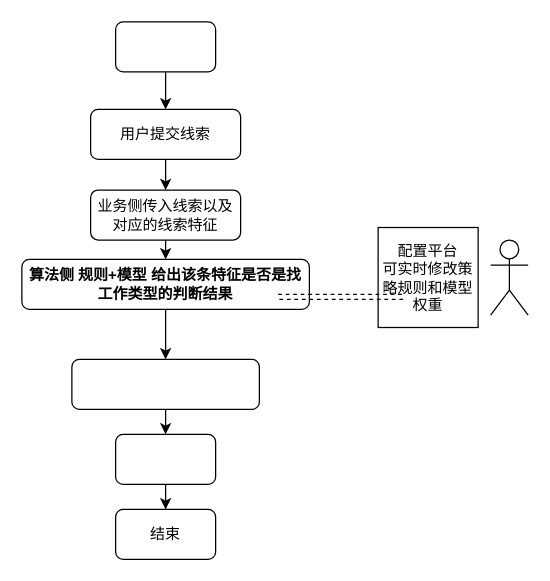
Some shapes in this 550 by 581 pixel diagram are drawn without their labels. The centre of each missing label's shape, as x and y in pixels:
"将结果返回给业务侧" goes at point (165, 383).
"开始" goes at point (165, 46).
"进行线索分配or线索拦截" goes at point (165, 458).
